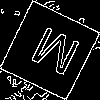M: (24, 25, 82, 86)
